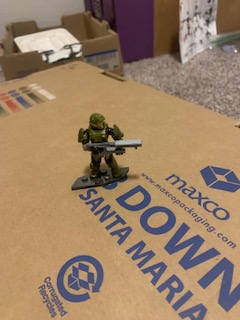soldier: (76, 111, 147, 185)
